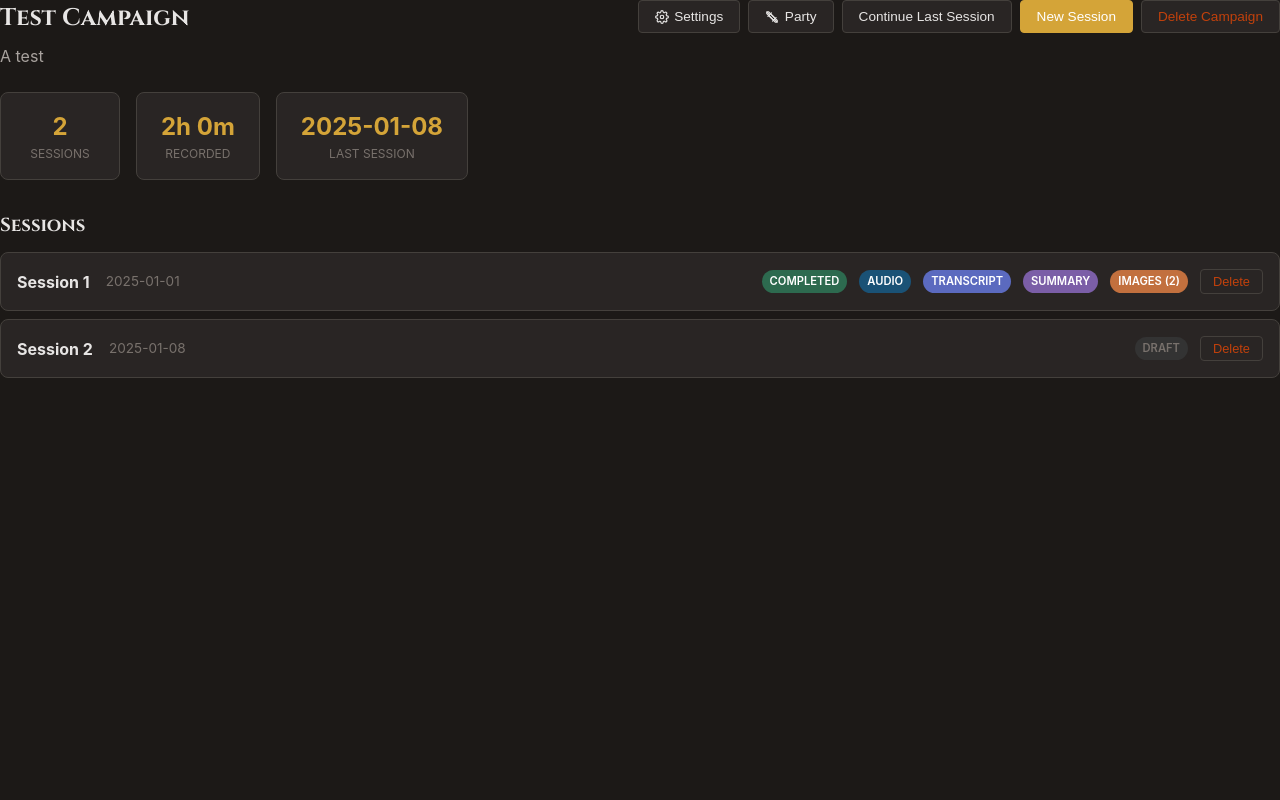
Test case: CampaignDashboard › shows confirm dialog when Delete Campaign is clicked
This screenshot has width=1280, height=800.
Click the button "Delete Campaign" at (1210, 16), box [1141, 0, 1279, 33]
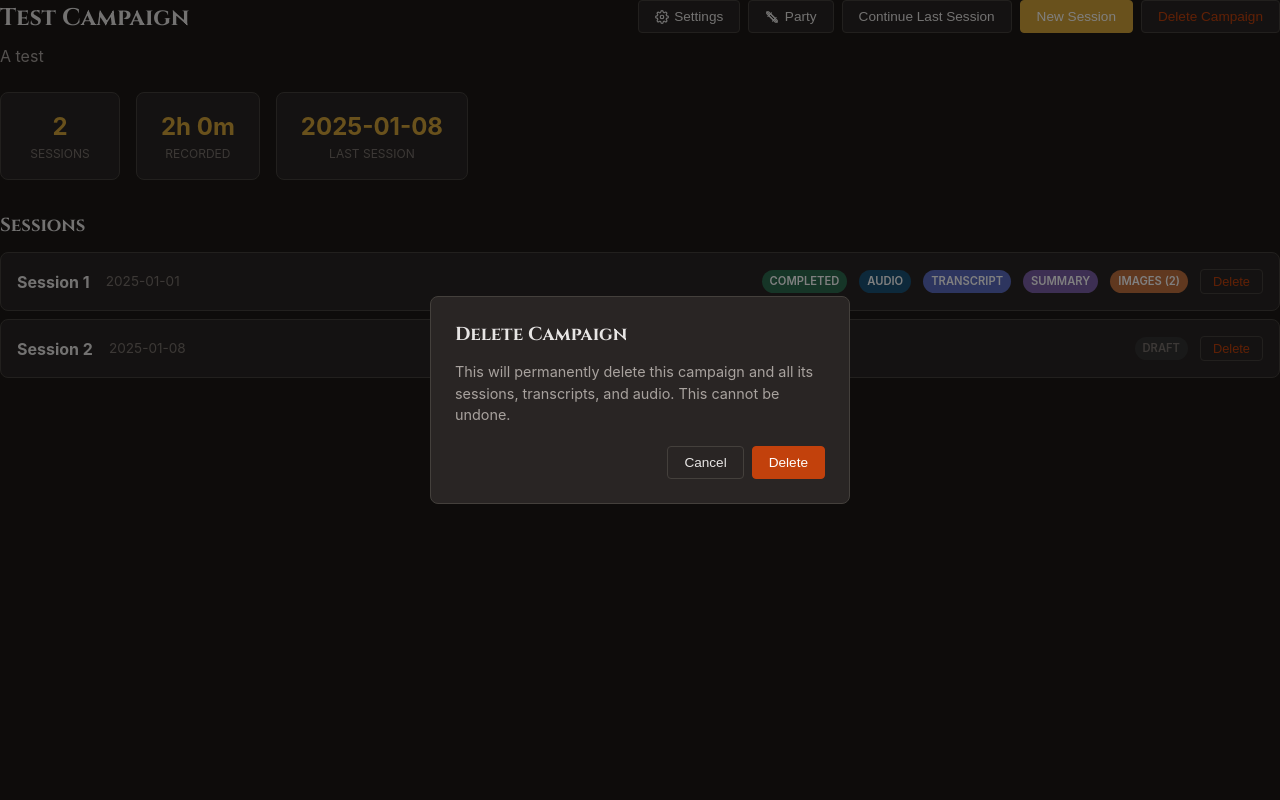
Expected: the text "permanently delete" is shown, [455, 363, 813, 423]
